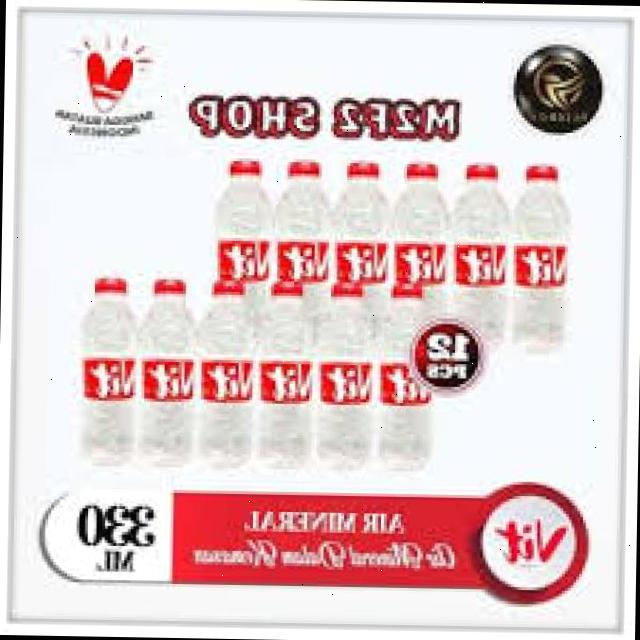bottle: (492, 155, 594, 375), (440, 152, 536, 350), (365, 278, 459, 449), (322, 158, 402, 358), (386, 158, 464, 358), (266, 153, 346, 347), (68, 280, 142, 468), (209, 154, 278, 354), (308, 273, 382, 459), (250, 274, 320, 464), (142, 275, 200, 460), (204, 278, 254, 464)
cap: (524, 160, 560, 187), (464, 162, 500, 184)
